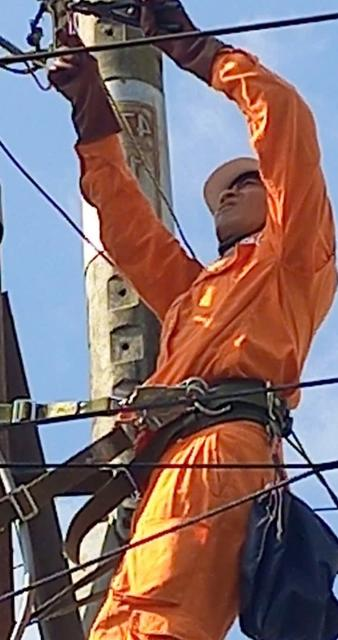gloves: (114, 0, 240, 91), (42, 24, 122, 159)
harness: (67, 365, 313, 456)
helmet: (184, 133, 313, 218)
